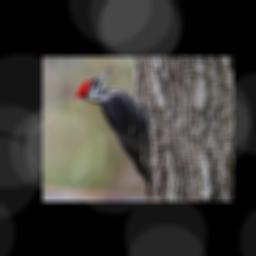Woodpecker: (74, 67, 154, 193)
